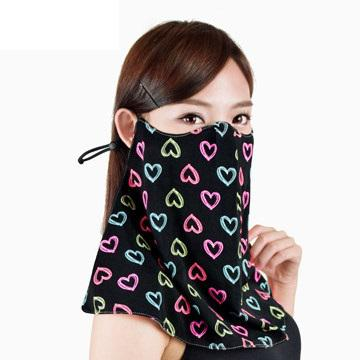OK: (153, 82, 257, 211)
